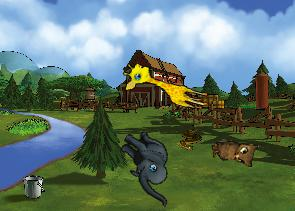elephant: (104, 124, 192, 207)
giraffe: (119, 59, 213, 112)
owl: (210, 139, 259, 170)
